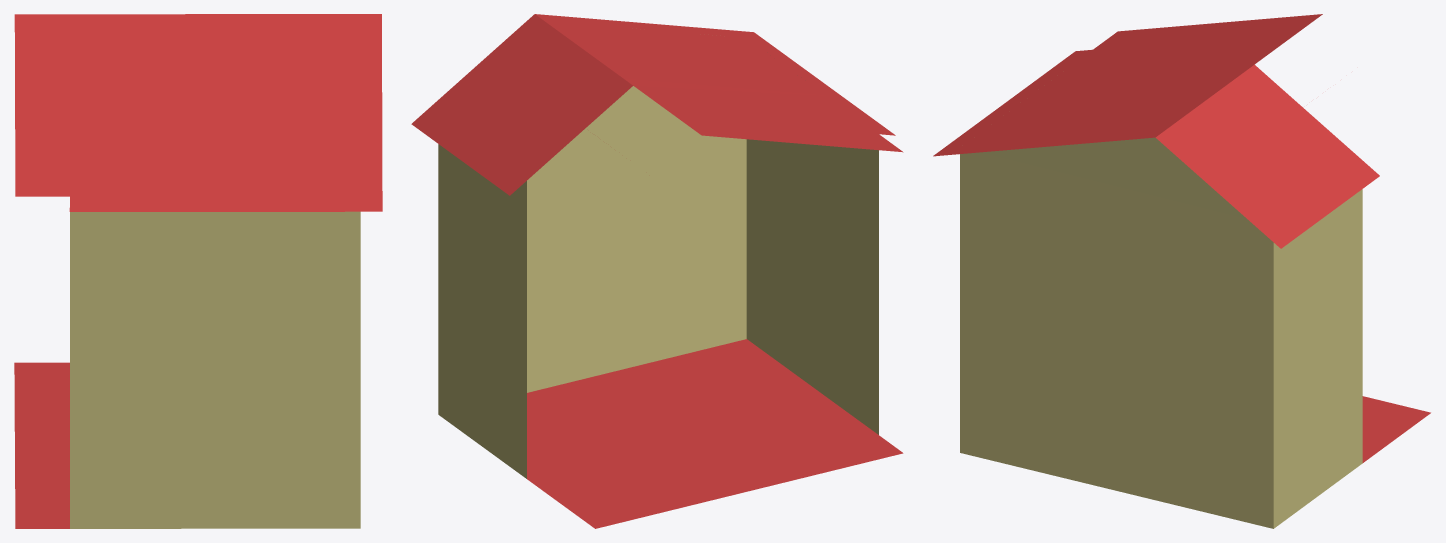
The picture shows the model from 3 angles, left to right: view 1: azimuth 30°, elevation 25°; view 2: azimuth 150°, elevation 25°; view 3: azimuth 270°, elevation 25°; orthographic projection. The views are drawn at different scales.
Size of the model in its own units: 11.99 by 12.4 by 10.21.
